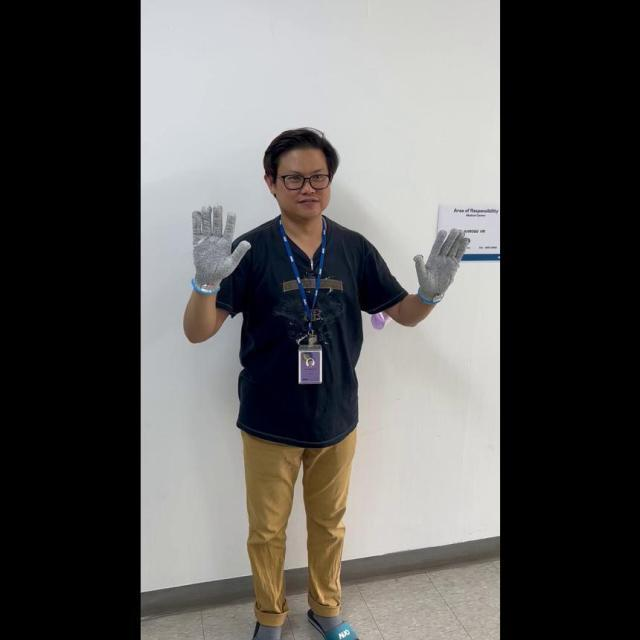gloved_hand: (187, 199, 249, 293), (409, 223, 469, 303)
